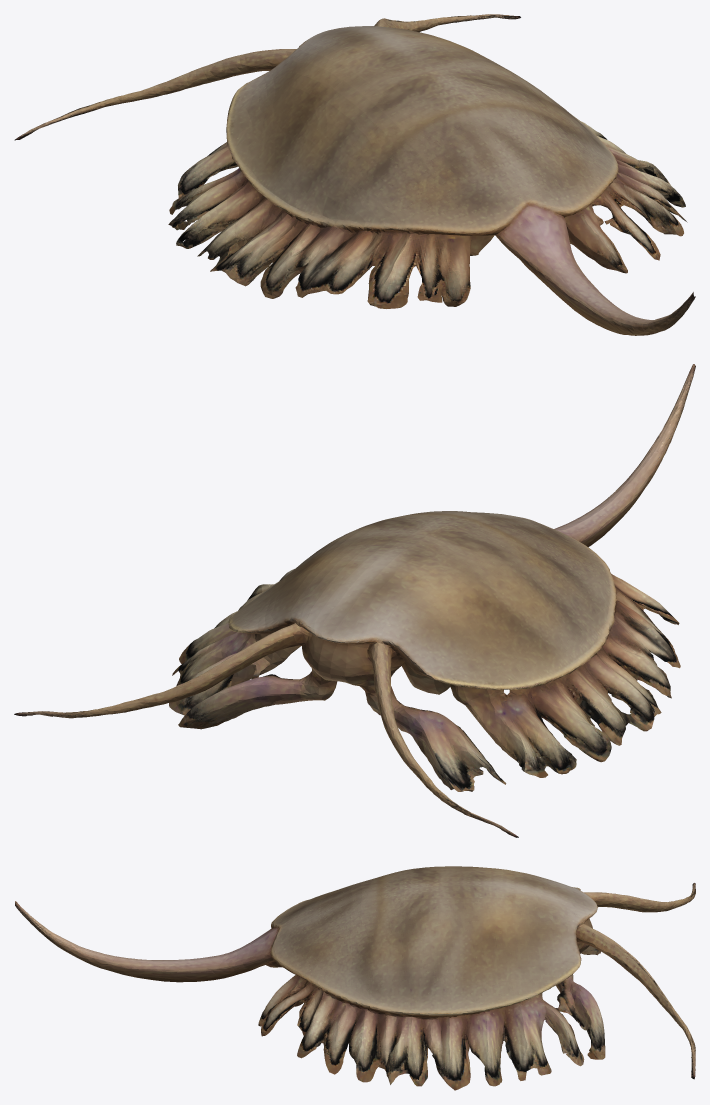
3 views of the same model, one above another, from view 1: azimuth 30°, elevation 25°; view 2: azimuth 150°, elevation 25°; view 3: azimuth 270°, elevation 25° (orthographic). The views are drawn at different scales.
Parts seen in each view (by area): view 1: world; view 2: world; view 3: world.
Part boxes in pixels (x1,y1,x2,y2): world: [14, 14, 695, 335]; world: [14, 364, 695, 837]; world: [15, 866, 695, 1090].
Size of the model in its own units: 0.6822 by 0.2034 by 1.
Materials: 1 (1 with a texture image).
